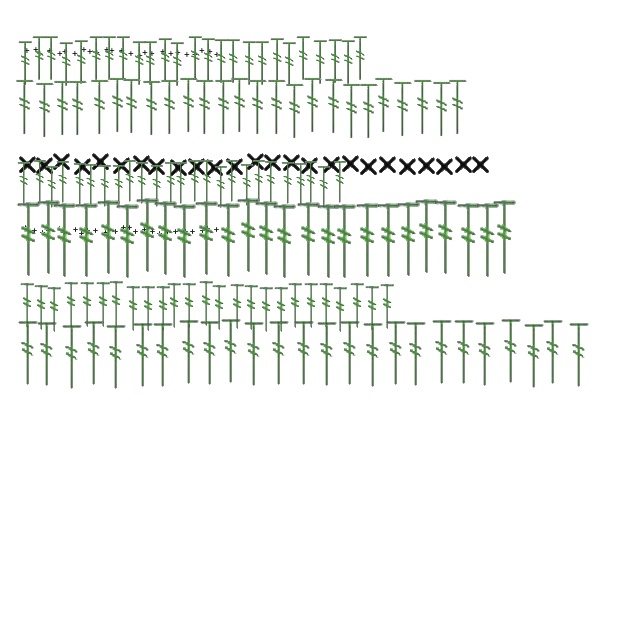double: (34, 154, 56, 176), (72, 155, 94, 177), (90, 150, 112, 172), (146, 155, 168, 177), (168, 156, 190, 178), (186, 155, 208, 177), (204, 156, 226, 178), (224, 155, 246, 177), (262, 151, 284, 173), (340, 152, 362, 174), (358, 155, 380, 177), (416, 154, 438, 176), (434, 155, 456, 177), (470, 153, 492, 175), (18, 153, 38, 175), (52, 150, 72, 172), (112, 154, 132, 176), (132, 152, 152, 174), (246, 150, 266, 172), (282, 151, 302, 173), (300, 154, 320, 176), (322, 153, 342, 175), (378, 153, 398, 175), (398, 155, 418, 177), (454, 153, 474, 175), (24, 48, 30, 54), (47, 48, 53, 54), (94, 50, 100, 56), (109, 48, 115, 54), (119, 48, 125, 54), (142, 50, 148, 56), (175, 50, 181, 56), (184, 52, 190, 58), (192, 52, 198, 58), (199, 48, 205, 54), (214, 52, 220, 58), (32, 228, 38, 234), (40, 230, 46, 236), (46, 228, 52, 234), (200, 228, 206, 234), (33, 48, 39, 52), (37, 52, 43, 56), (57, 52, 63, 56), (62, 50, 68, 54), (72, 52, 78, 56), (81, 48, 87, 52), (87, 50, 93, 54), (104, 48, 110, 52), (128, 52, 134, 56), (137, 54, 143, 58), (149, 52, 155, 56), (160, 50, 166, 54), (168, 52, 174, 56), (207, 50, 213, 54), (58, 226, 62, 232), (62, 230, 66, 236), (86, 228, 90, 234), (94, 228, 98, 234), (104, 230, 108, 236), (142, 228, 148, 232), (150, 230, 156, 234), (190, 230, 196, 234), (206, 226, 210, 232), (214, 228, 220, 232), (24, 226, 28, 230), (74, 228, 78, 232), (80, 232, 84, 236), (114, 230, 118, 234), (122, 226, 126, 230), (128, 226, 132, 230), (134, 230, 138, 234), (158, 232, 162, 236), (166, 230, 170, 234), (174, 230, 178, 234), (184, 230, 188, 234)
fan: (51, 202, 77, 280), (73, 202, 99, 280), (152, 200, 178, 278), (193, 200, 219, 278), (215, 202, 241, 280), (253, 200, 279, 278), (354, 202, 380, 280), (375, 202, 401, 280), (413, 198, 439, 276), (455, 202, 481, 280), (474, 202, 500, 280), (15, 202, 41, 278), (35, 200, 61, 276), (95, 200, 121, 276), (114, 204, 140, 280), (134, 198, 160, 274), (171, 204, 197, 280), (235, 198, 261, 274), (271, 204, 297, 280), (295, 202, 321, 278), (315, 204, 341, 280), (331, 204, 357, 280), (395, 202, 421, 278), (432, 200, 458, 276), (491, 200, 517, 276), (16, 318, 40, 388), (35, 319, 59, 389), (60, 322, 84, 392), (82, 318, 106, 388), (104, 322, 128, 392), (131, 320, 155, 390), (151, 320, 175, 390), (177, 317, 201, 387), (198, 318, 222, 388), (219, 316, 243, 386), (242, 319, 266, 389), (267, 318, 291, 388), (292, 318, 316, 388), (315, 319, 339, 389), (338, 318, 362, 388), (361, 320, 385, 390), (384, 318, 408, 388), (404, 319, 428, 389), (430, 317, 454, 387), (452, 317, 476, 387), (473, 319, 497, 389), (499, 316, 523, 386), (522, 321, 546, 391), (541, 317, 565, 387), (567, 320, 591, 390), (14, 78, 36, 136), (34, 81, 56, 139), (52, 79, 74, 137), (67, 79, 89, 137), (89, 78, 111, 136), (107, 76, 129, 134), (121, 77, 143, 135), (141, 79, 163, 137), (159, 78, 181, 136), (178, 76, 200, 134), (194, 78, 216, 136), (213, 78, 235, 136), (229, 76, 251, 134), (247, 78, 269, 136), (266, 78, 288, 136), (284, 82, 306, 140), (302, 76, 324, 134), (323, 77, 345, 135), (341, 82, 363, 140), (358, 82, 380, 140), (373, 76, 395, 134), (392, 80, 414, 138), (412, 78, 434, 136), (431, 80, 453, 138), (447, 78, 469, 136), (58, 41, 76, 87), (88, 35, 106, 81), (142, 40, 160, 86), (200, 37, 218, 83), (254, 40, 272, 86), (312, 39, 330, 85), (340, 39, 358, 85), (352, 35, 370, 81), (19, 282, 35, 330), (33, 284, 49, 332), (46, 286, 62, 334), (108, 280, 124, 328), (166, 282, 182, 330), (181, 282, 197, 330), (198, 280, 214, 328), (211, 284, 227, 332), (243, 284, 259, 332), (258, 286, 274, 334), (273, 286, 289, 334), (287, 282, 303, 330), (303, 282, 319, 330), (318, 282, 334, 330), (332, 286, 348, 334), (349, 282, 365, 330), (18, 40, 34, 86), (32, 35, 48, 81), (44, 35, 60, 81), (74, 39, 90, 85), (102, 35, 118, 81), (116, 35, 132, 81), (132, 40, 148, 86), (158, 37, 174, 83), (170, 41, 186, 87), (188, 35, 204, 81), (214, 38, 230, 84), (226, 38, 242, 84), (242, 40, 258, 86), (270, 37, 286, 83), (282, 41, 298, 87), (296, 35, 312, 81), (328, 38, 344, 84), (16, 160, 32, 206), (32, 158, 48, 204), (44, 164, 60, 210), (55, 159, 71, 205), (72, 161, 88, 207), (83, 162, 99, 208), (97, 163, 113, 209), (111, 163, 127, 209), (122, 158, 138, 204), (134, 160, 150, 206), (149, 163, 165, 209), (163, 160, 179, 206), (173, 160, 189, 206), (187, 158, 203, 204), (199, 158, 215, 204), (213, 164, 229, 210), (224, 158, 240, 204), (239, 162, 255, 208), (251, 158, 267, 204), (263, 159, 279, 205), (280, 160, 296, 206), (293, 161, 309, 207), (303, 159, 319, 205), (316, 164, 332, 210), (332, 159, 348, 205), (63, 282, 79, 328), (79, 282, 95, 328), (95, 282, 111, 328), (125, 286, 141, 332), (140, 286, 156, 332), (155, 286, 171, 332), (229, 284, 245, 330), (364, 286, 380, 332), (379, 284, 395, 330)
